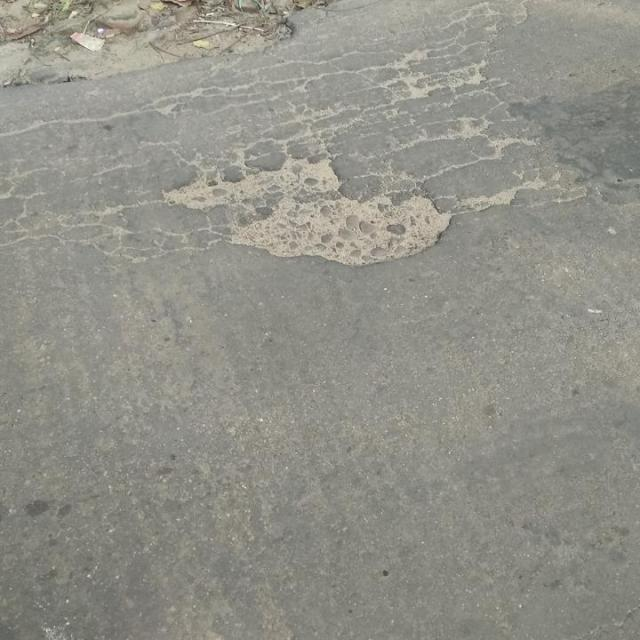Pothole: (158, 163, 450, 263)
